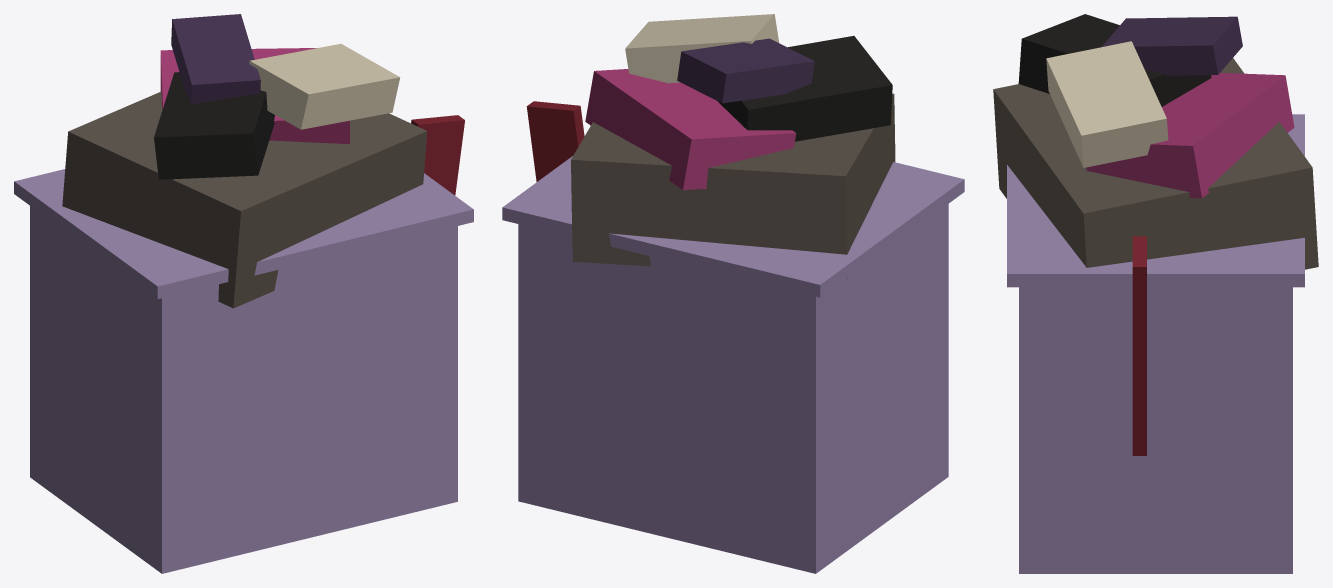
The model's file is laundry-basket-full.glb.
3 renders of one model, left to right at view 1: azimuth 30°, elevation 25°; view 2: azimuth 150°, elevation 25°; view 3: azimuth 270°, elevation 25°, orthographic. The views are drawn at different scales.
Visible parts, largest first — view 1: accent-lilac, fabric, rubber, paper, accent-purple, accent-crimson, accent-magenta; view 2: accent-lilac, fabric, accent-magenta, rubber, accent-purple, paper, accent-crimson; view 3: accent-lilac, fabric, accent-magenta, paper, accent-purple, rubber, accent-crimson.
Boxes of the visible parts, <box> form: accent-lilac: <box>14,169,473,573</box>; fabric: <box>60,91,427,308</box>; rubber: <box>154,72,274,179</box>; paper: <box>249,43,400,129</box>; accent-purple: <box>171,14,260,104</box>; accent-crimson: <box>411,115,464,195</box>; accent-magenta: <box>160,48,349,144</box>; accent-lilac: <box>502,156,964,573</box>; fabric: <box>571,93,895,278</box>; accent-magenta: <box>585,69,796,190</box>; rubber: <box>717,36,892,141</box>; accent-purple: <box>677,38,814,103</box>; paper: <box>625,14,779,83</box>; accent-crimson: <box>526,101,584,181</box>; accent-lilac: <box>1007,114,1304,573</box>; fabric: <box>993,58,1318,269</box>; accent-magenta: <box>1086,72,1294,198</box>; paper: <box>1046,41,1168,167</box>; accent-purple: <box>1101,16,1242,75</box>; rubber: <box>1018,14,1211,106</box>; accent-crimson: <box>1132,236,1146,455</box>.
Bounding box in the file's own units: 0.5471 × 0.6387 × 0.4043.
